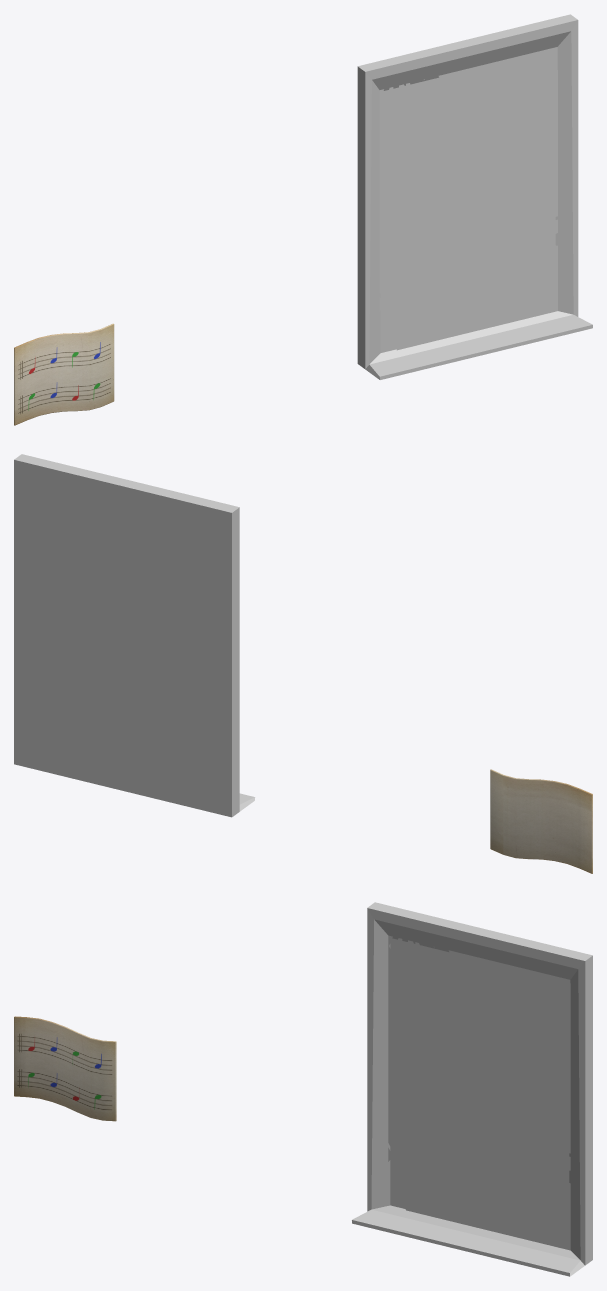
File: M4BO_spiegel en sheet music.fbx
3 renders of one model, top to bottom at view 1: azimuth 30°, elevation 25°; view 2: azimuth 150°, elevation 25°; view 3: azimuth 330°, elevation 25°, orthographic. The views are drawn at different scales.
Parts seen in each view (by area): view 1: Plane.004, Cube.115, Plane.005; view 2: Cube.115, Plane.005; view 3: Plane.004, Cube.115, Plane.005.
Boxes of the visible parts, x1,y1,x2,y2 form: Plane.004: (379, 47, 557, 350); Cube.115: (357, 14, 592, 379); Plane.005: (14, 323, 114, 425); Cube.115: (14, 454, 255, 817); Plane.005: (490, 769, 592, 873); Plane.004: (388, 935, 570, 1250); Cube.115: (352, 902, 592, 1276); Plane.005: (14, 1016, 116, 1121).
Bounding box in the file's own units: 2149 × 1089 × 149.
